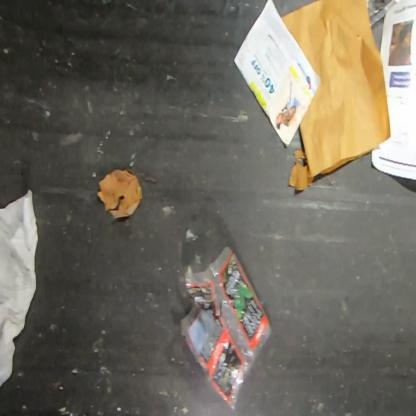soft_plastic: (176, 245, 274, 412)
